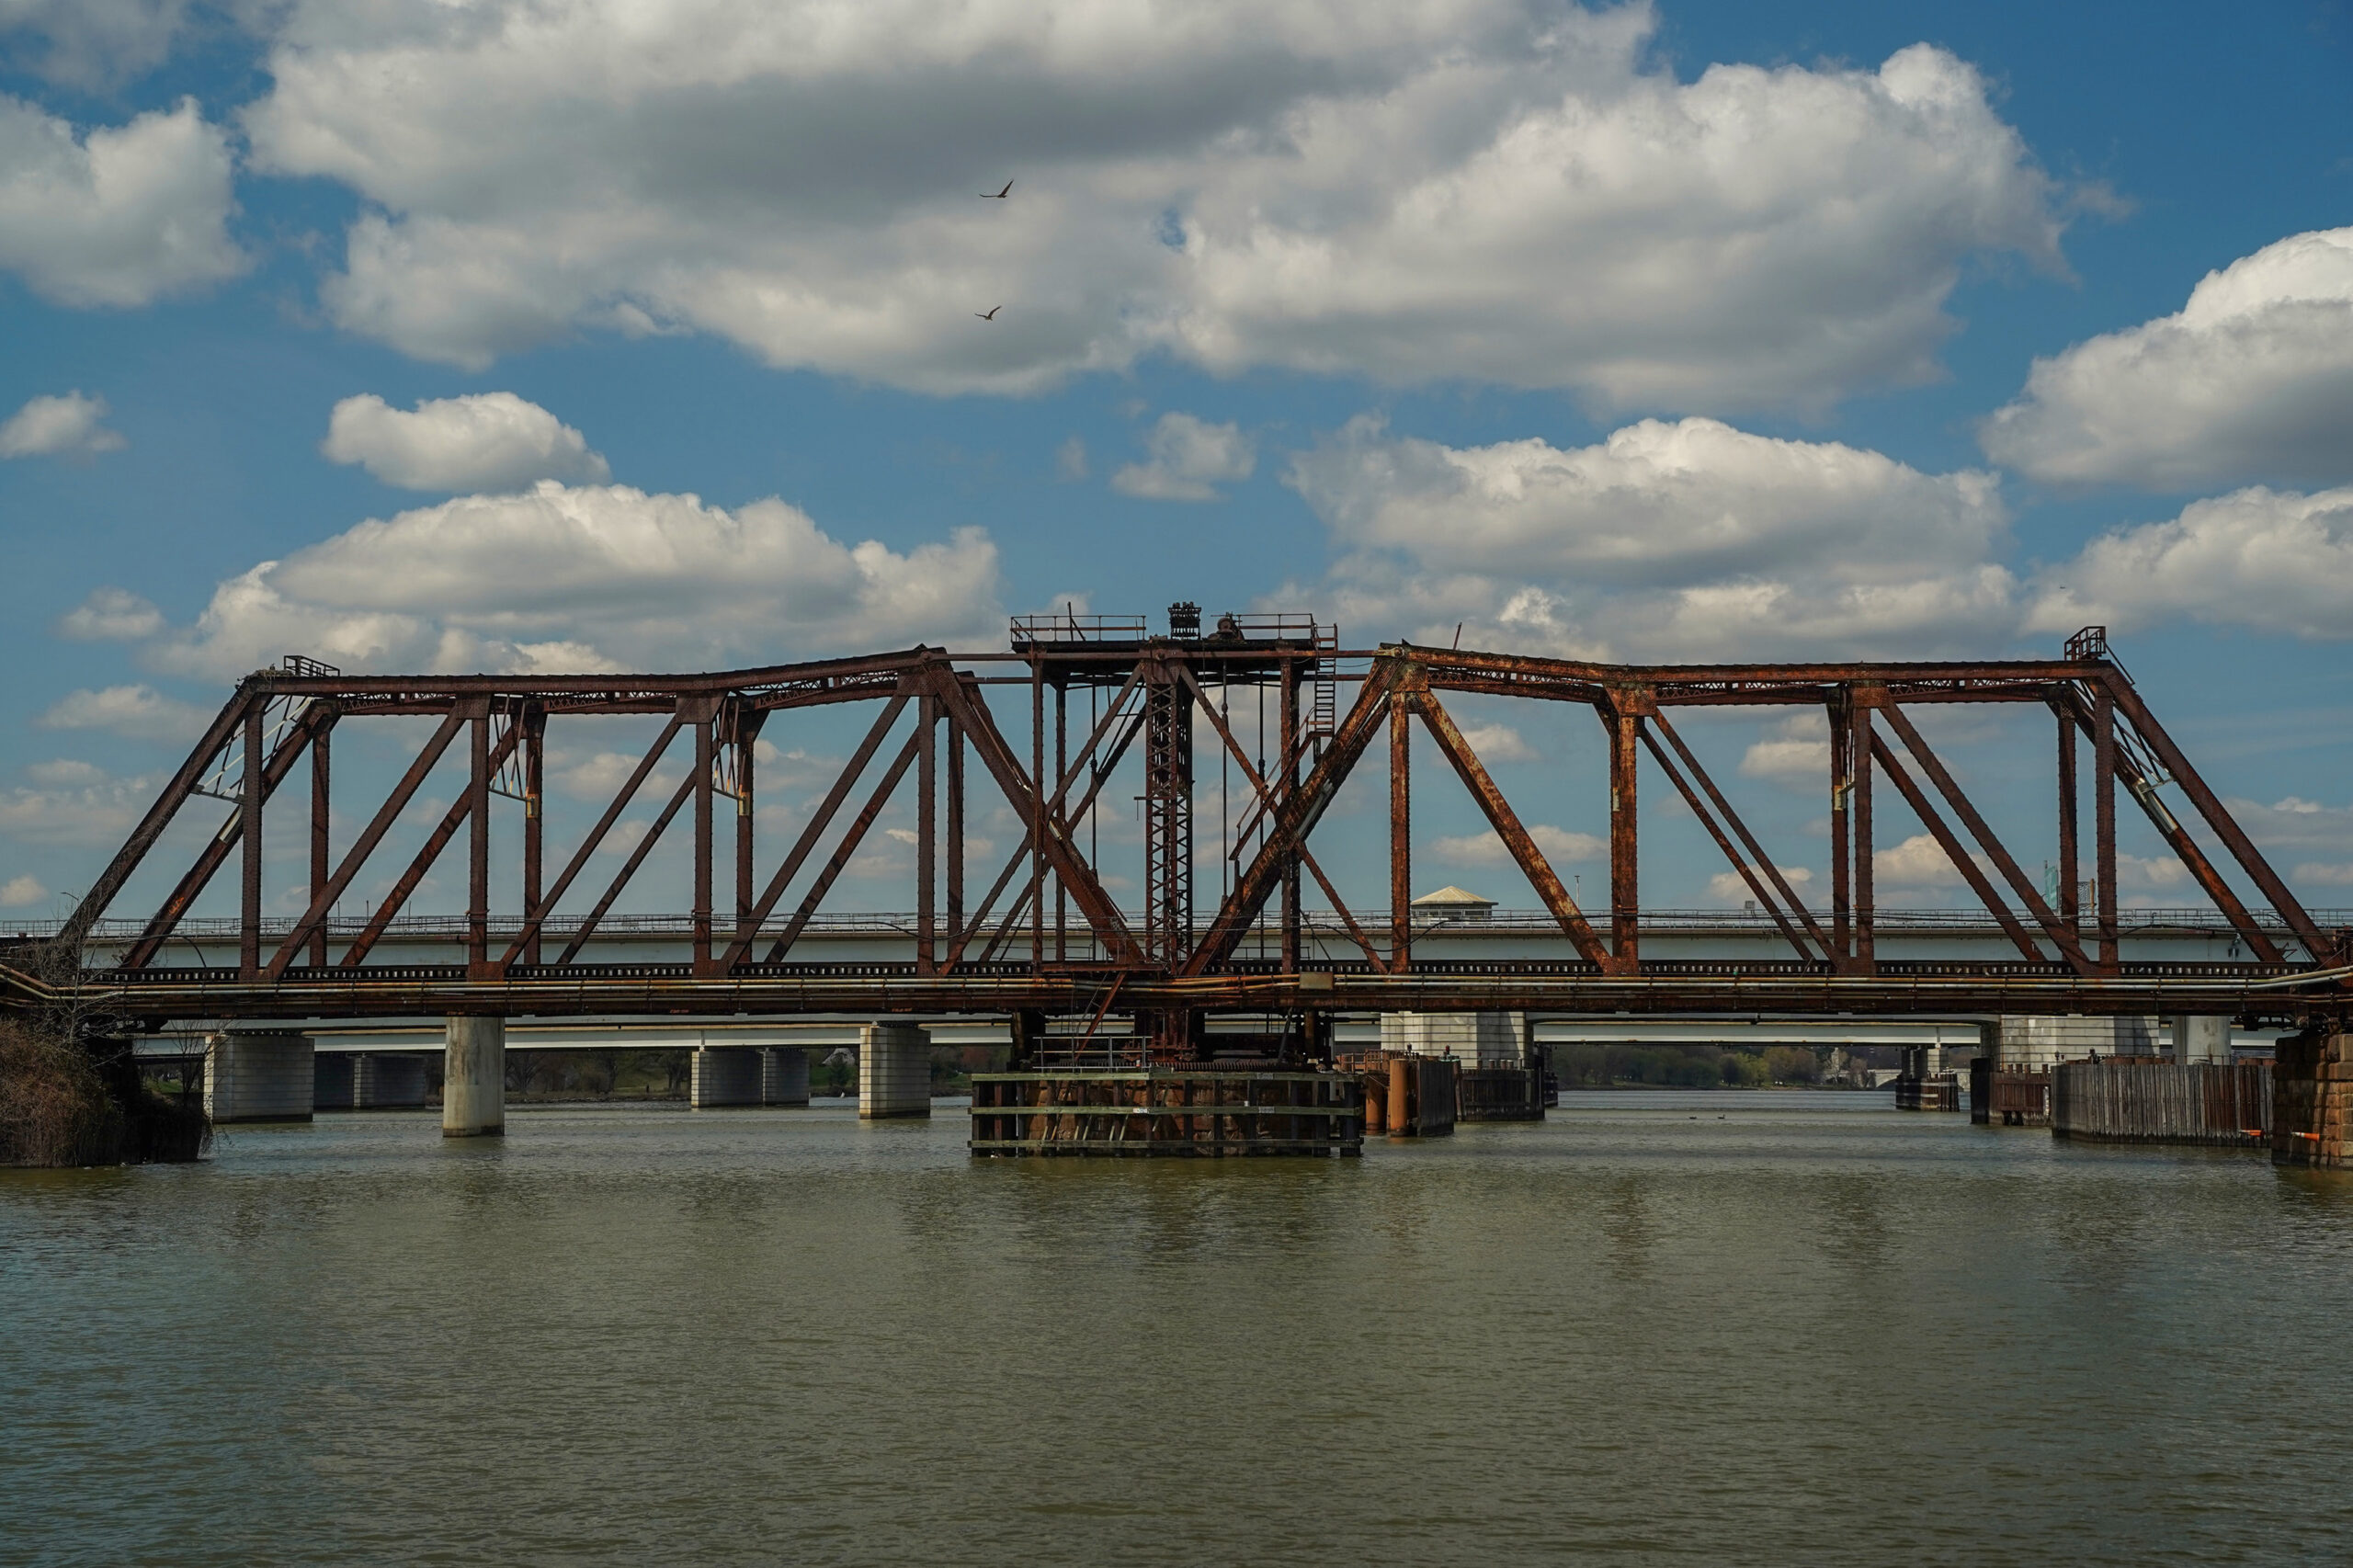80: (3, 600, 2353, 1183)
water: (19, 1130, 2353, 1566)
